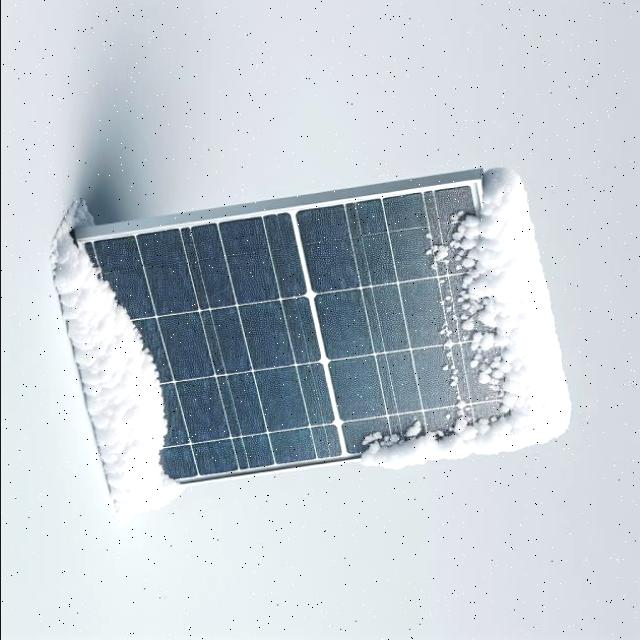Anomaly Solar Panel: (74, 183, 523, 504)
Snow: (318, 168, 576, 478), (58, 223, 188, 505)
